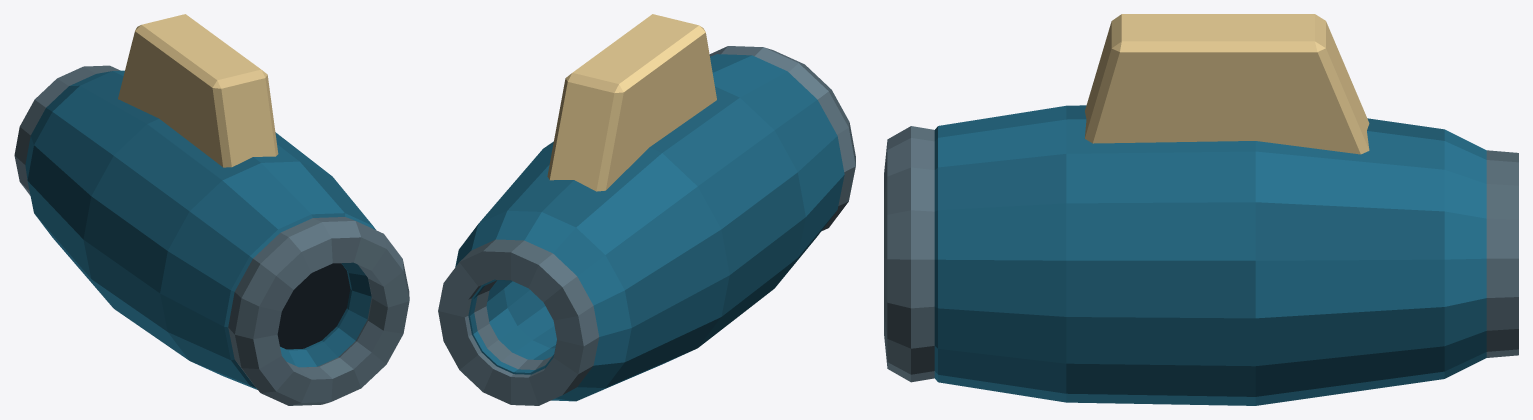
The model's file is EA_UnderwingNacelle.fbx.
3 views of the same model, side by side, from view 1: azimuth 30°, elevation 25°; view 2: azimuth 150°, elevation 25°; view 3: azimuth 270°, elevation 25° (orthographic). The views are drawn at different scales.
Parts seen in each view (by area): view 1: EA_UnderwingNacelle; view 2: EA_UnderwingNacelle; view 3: EA_UnderwingNacelle.
Boxes of the visible parts, x1,y1,x2,y2 form: EA_UnderwingNacelle: (14, 14, 409, 405); EA_UnderwingNacelle: (438, 14, 855, 405); EA_UnderwingNacelle: (884, 14, 1518, 405).
Bounding box in the file's own units: 0.45 × 0.595 × 0.94.
